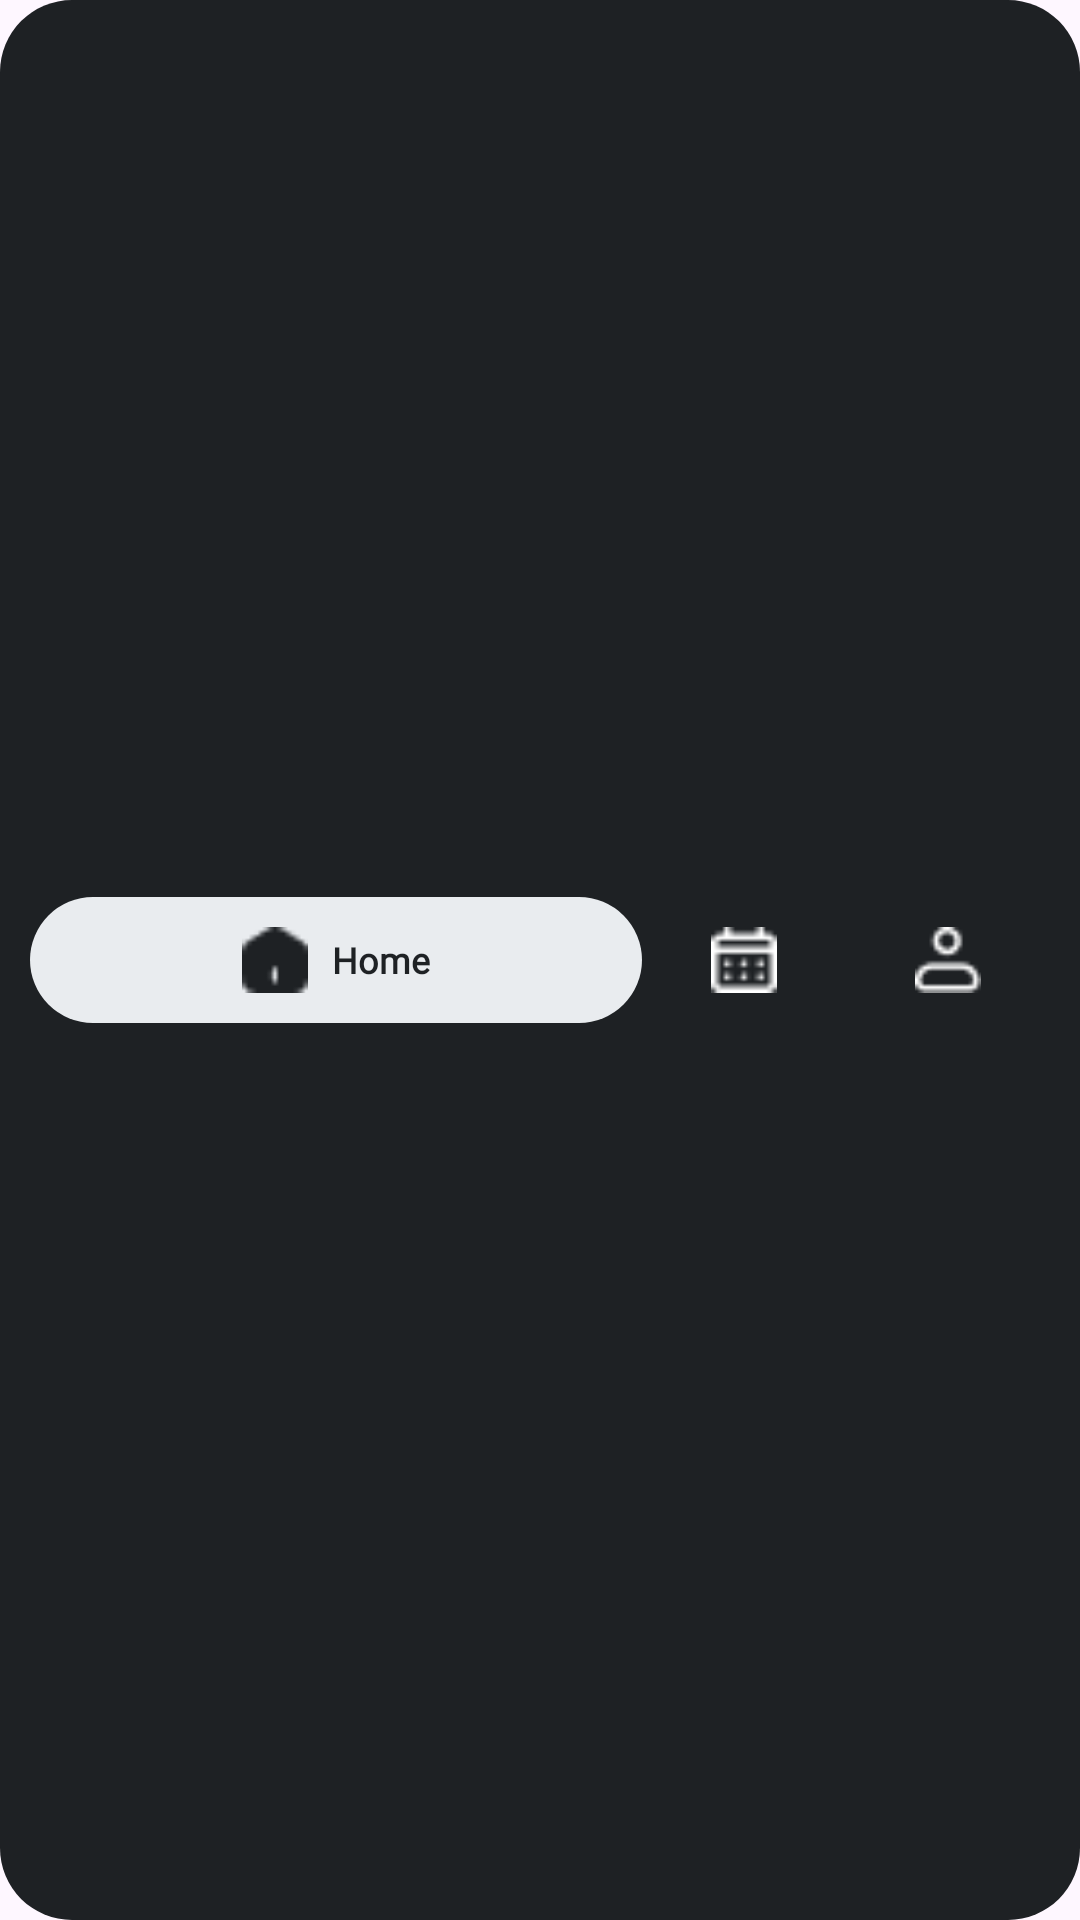

Icons on this 1080×1920 Android screen, each with its box as (x1, y1, x2, y2):
profile: (915, 927, 981, 993)
schedule: (711, 927, 777, 993)
